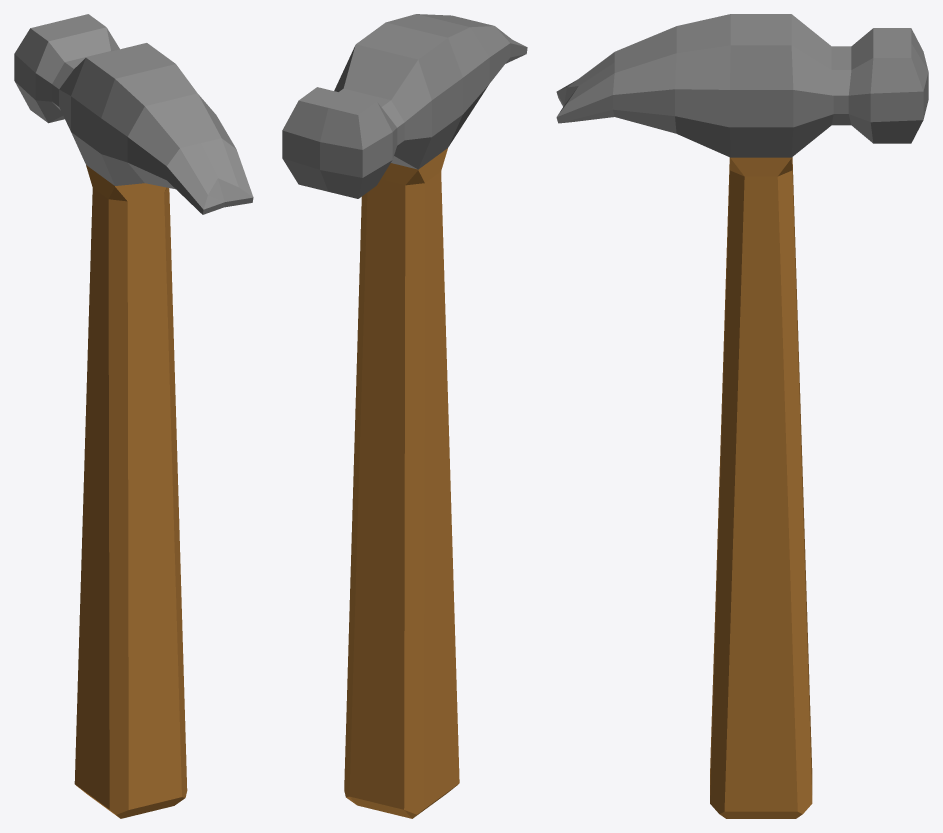
File: hammer.fbx
The picture shows the model from 3 angles, left to right: view 1: azimuth 30°, elevation 25°; view 2: azimuth 150°, elevation 25°; view 3: azimuth 270°, elevation 25°; orthographic projection. The views are drawn at different scales.
Parts seen in each view (by area): view 1: Cube; view 2: Cube; view 3: Cube.
Part boxes in pixels (box(x1,y1,x2,y2)): Cube: box(14, 14, 253, 818); Cube: box(282, 14, 527, 818); Cube: box(556, 14, 928, 818).
Bounding box in the file's own units: 105 × 831 × 361.
